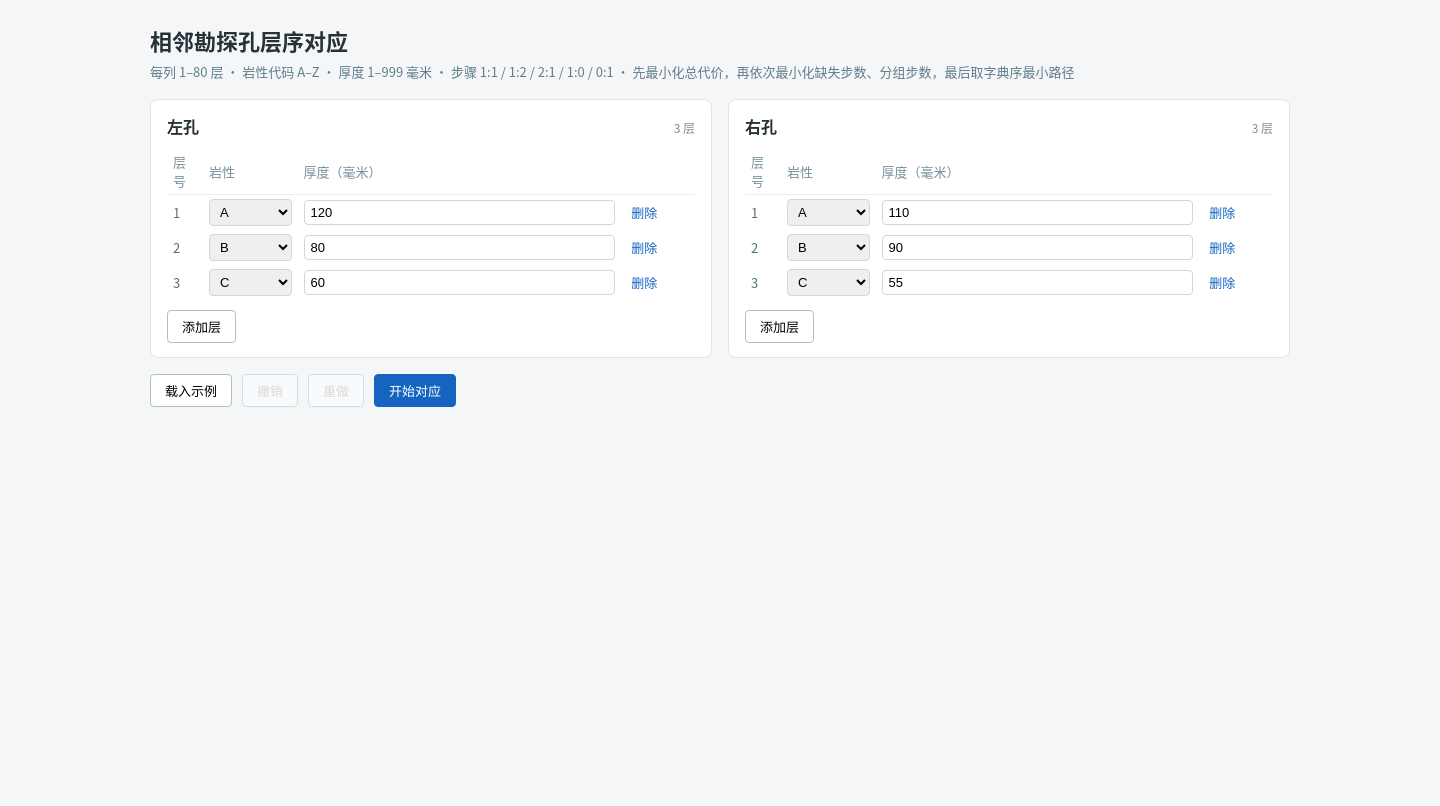
Scenario: App › 载入示例并提交后展示连带图与逐步证据
Click the button "载入示例". click: (191, 390)
box: [150, 374, 232, 407]
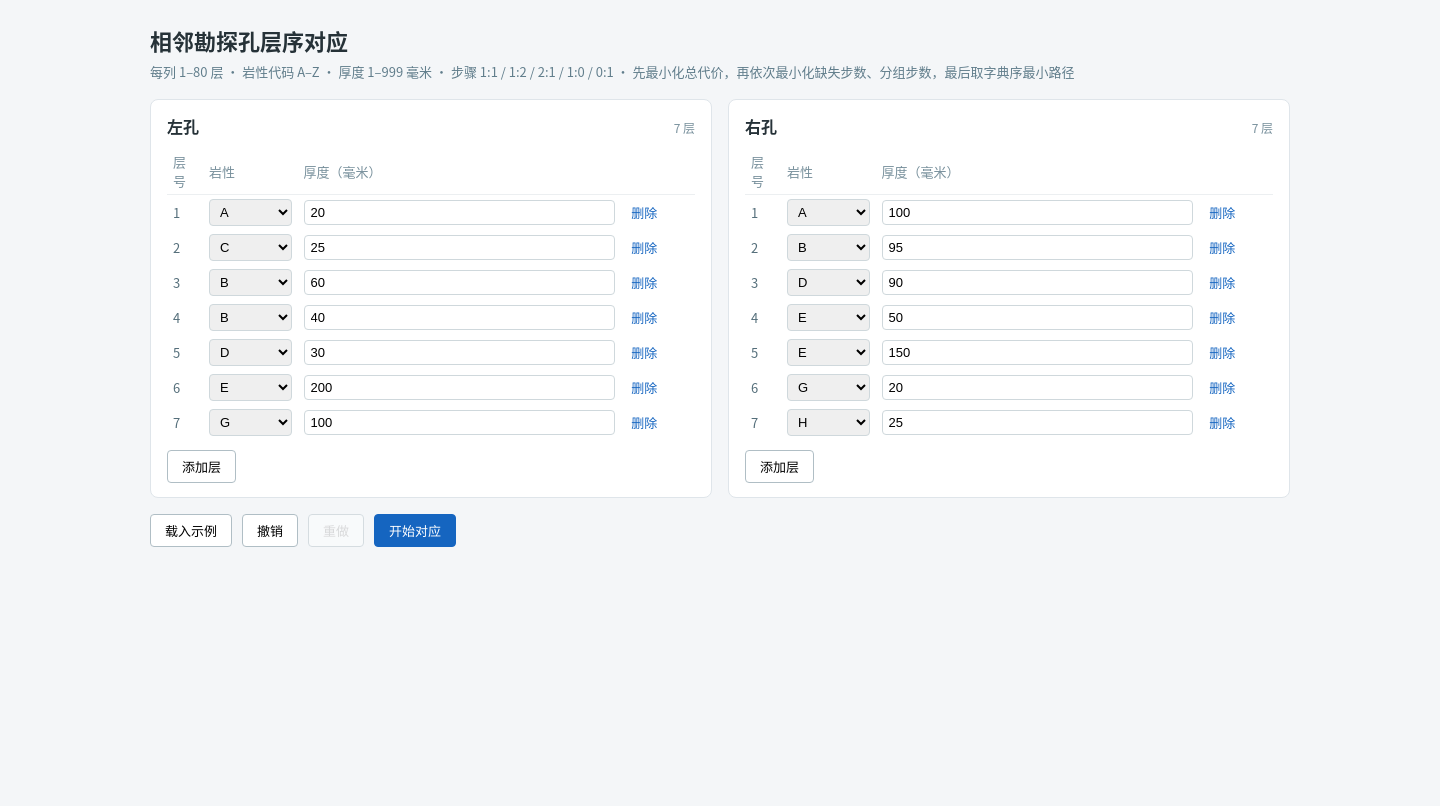
Click the button "开始对应". click: (415, 530)
box: [374, 514, 456, 547]
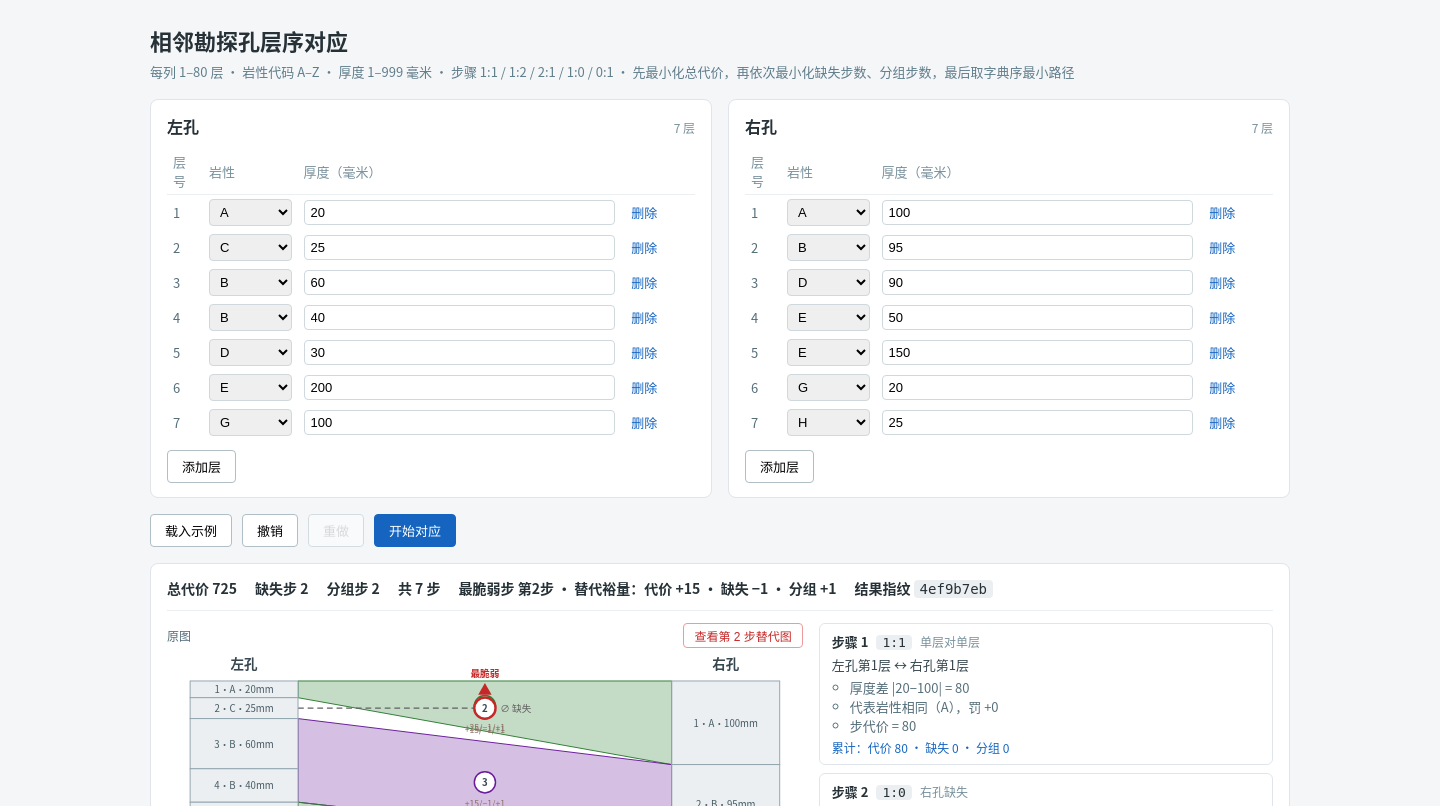
expect the element with test id "totals" shows "总代价 725": met, box [167, 578, 1273, 611]
expect the element with test id "totals" shows "缺失步 2": met, box [167, 578, 1273, 611]
expect the element with test id "totals" shows "分组步 2": met, box [167, 578, 1273, 611]
